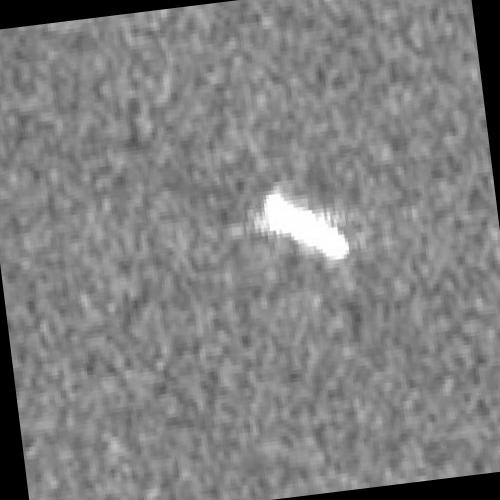ship: (261, 188, 351, 260)
